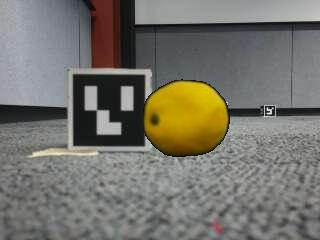lemon: (145, 81, 229, 156)
